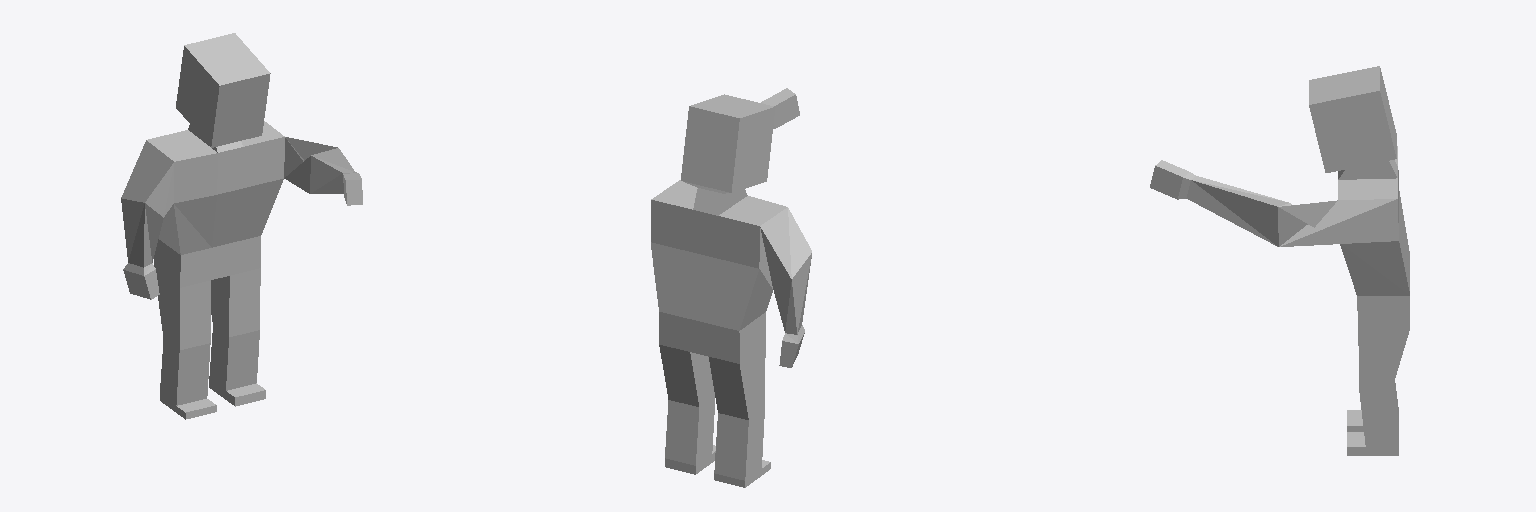
Rendered from zombie_attack.obj.
3 renders of one model, left to right at view 1: azimuth 30°, elevation 25°; view 2: azimuth 150°, elevation 25°; view 3: azimuth 270°, elevation 25°, orthographic.
Visible parts, largest first — view 1: Cube; view 2: Cube; view 3: Cube.
Boxes of the visible parts, <box> form: Cube: <box>121,33,362,419</box>; Cube: <box>651,88,811,487</box>; Cube: <box>1150,66,1409,455</box>.
Bounding box in the file's own units: 0.8053 × 1.69 × 1.11.